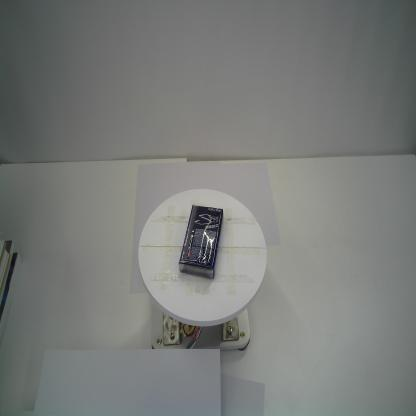Gum: (178, 205, 223, 280)
